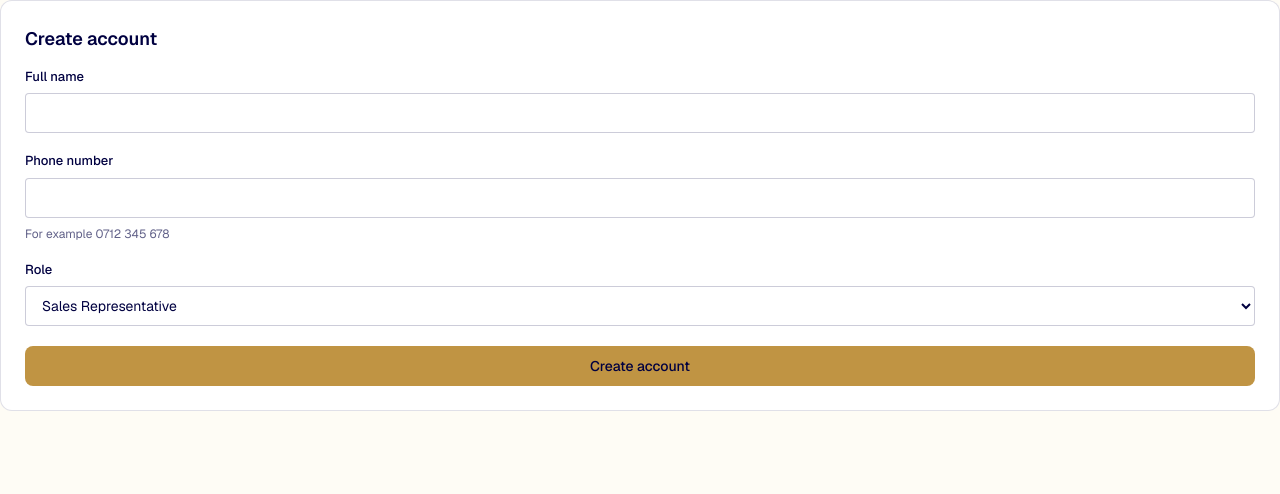
Scenario: account creation whose request never reaches a verdict › reports the failure inline and keeps every detail that was typed
Type "Asha Mushi" into the field labelled "Full name" at (640, 113), box [25, 93, 1255, 133]
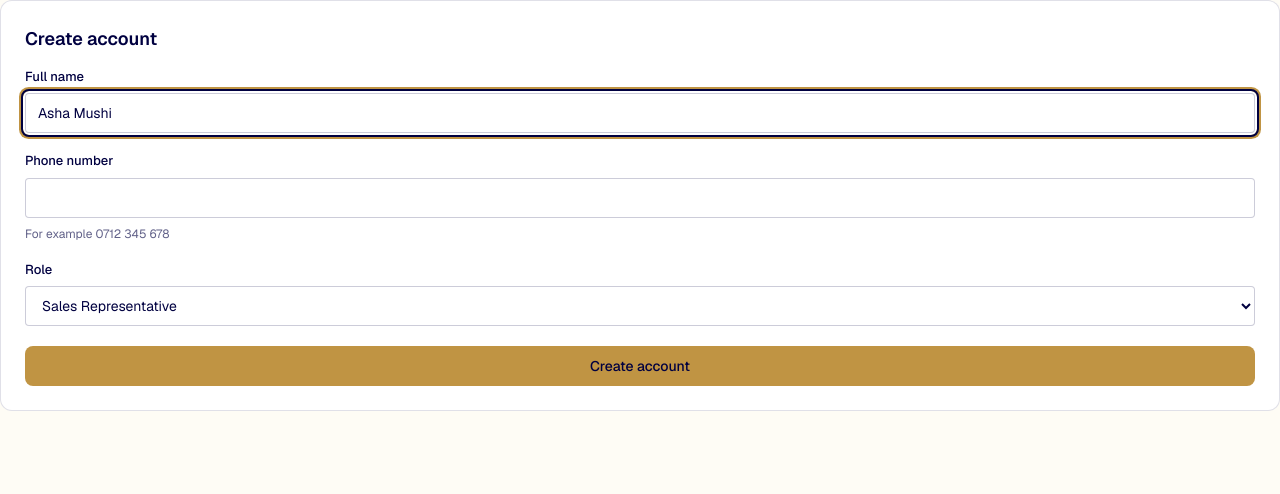
Type "0712345678" into the field labelled "Phone number" at (640, 198), box [25, 178, 1255, 218]
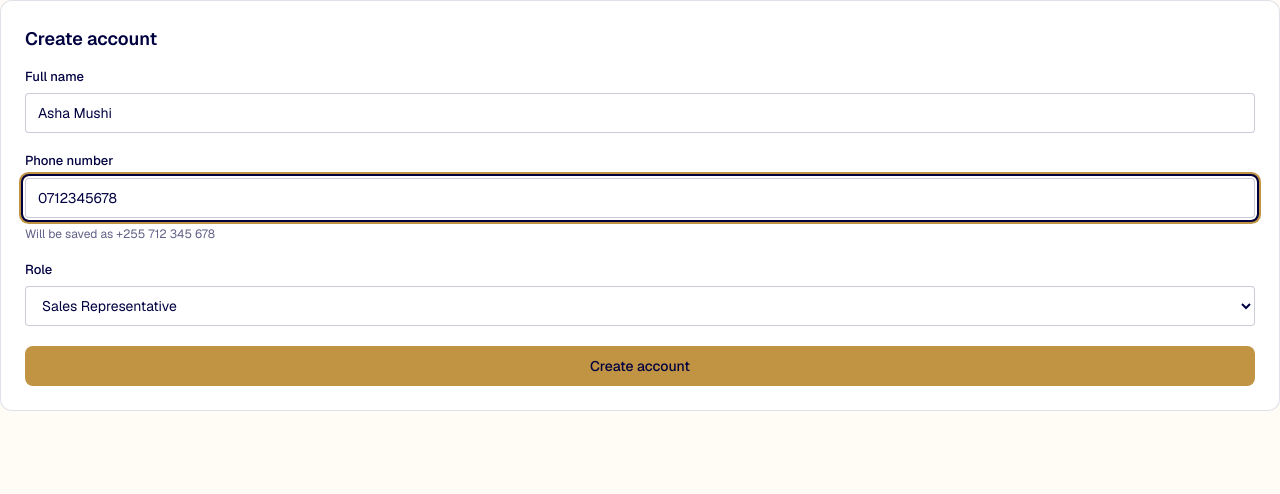
Select "Manager" in the dropdown labelled "Role" at (640, 306), box [25, 286, 1255, 326]
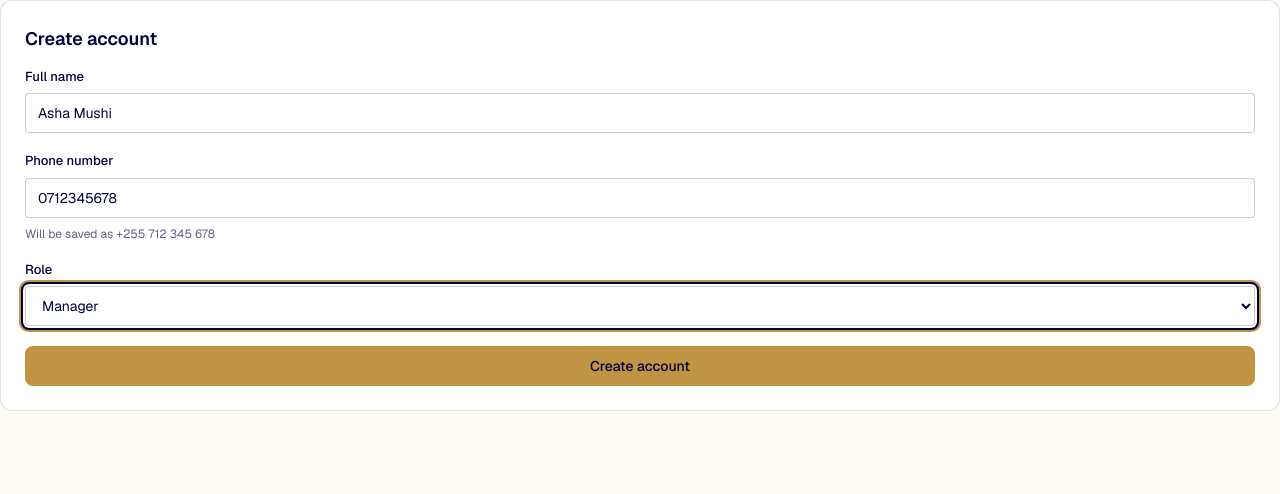
Click the button "Create account" at (640, 366), box [25, 346, 1255, 386]
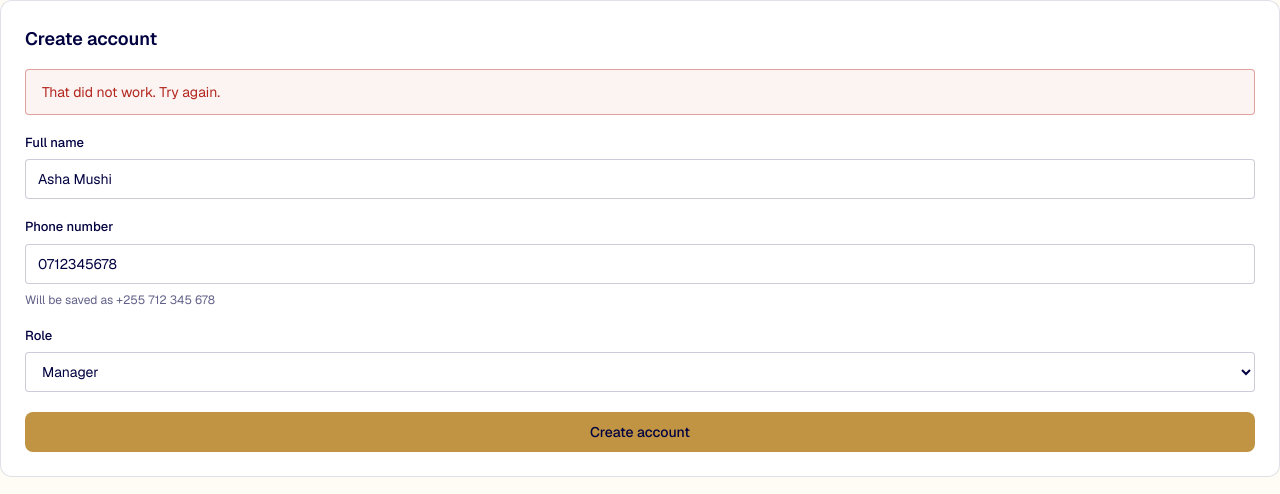
Check: the button "Create account" is enabled, box [25, 412, 1255, 452]
Check: the message shows "That did not work", box [42, 83, 220, 101]
